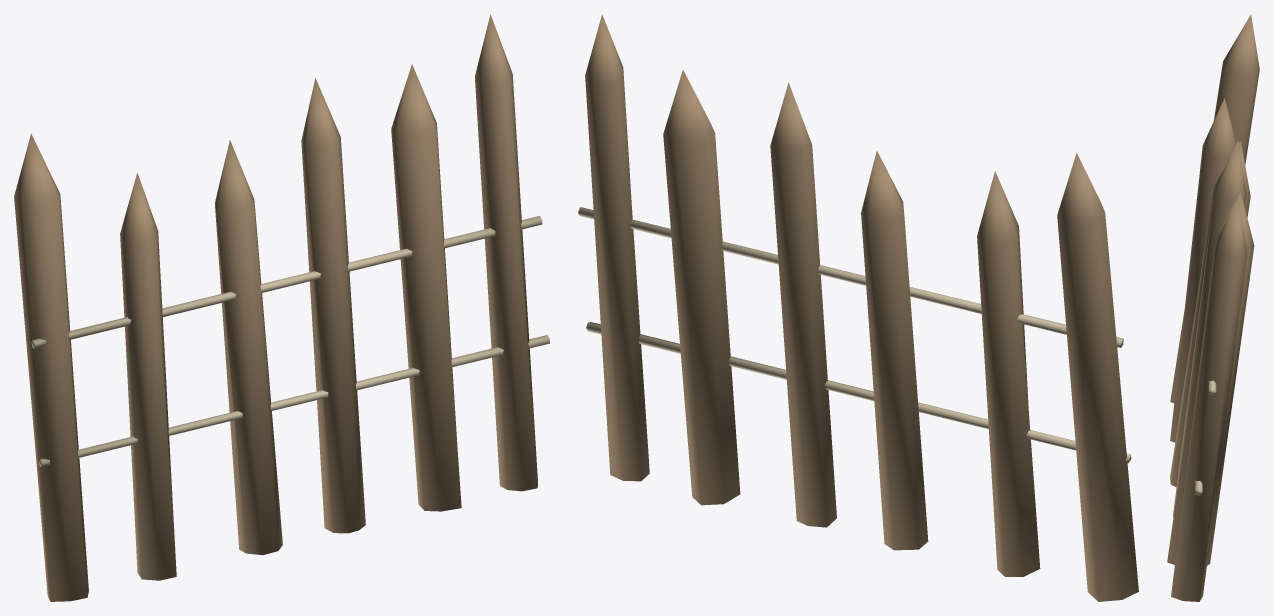
File: camp_stakes.glb
3 views of the same model, side by side, from view 1: azimuth 30°, elevation 25°; view 2: azimuth 150°, elevation 25°; view 3: azimuth 270°, elevation 25° (orthographic). The views are drawn at different scales.
Visible parts, largest first — view 1: stake, stake.004, stake.003, stake.005, stake.002, stake.001, rope.001, rope; view 2: stake, stake.004, stake.005, stake.003, stake.002, stake.001, rope.001, rope; view 3: stake.005, stake.001, stake.004, stake, stake.003, stake.002.
Boxes of the visible parts, <box> form: stake: <box>14,133,88,601</box>; stake.004: <box>391,64,461,511</box>; stake.003: <box>301,78,365,533</box>; stake.005: <box>475,14,537,491</box>; stake.002: <box>215,140,282,555</box>; stake.001: <box>120,172,176,580</box>; rope.001: <box>31,216,542,348</box>; rope: <box>39,335,549,466</box>; stake: <box>1057,153,1138,601</box>; stake.004: <box>663,70,740,505</box>; stake.005: <box>585,14,649,481</box>; stake.003: <box>770,82,836,527</box>; stake.002: <box>861,150,928,550</box>; stake.001: <box>977,171,1040,576</box>; rope.001: <box>578,207,1123,347</box>; rope: <box>586,322,1131,463</box>; stake.005: <box>1171,197,1247,601</box>; stake.001: <box>1170,98,1235,442</box>; stake.004: <box>1167,192,1254,565</box>; stake: <box>1170,14,1259,403</box>; stake.003: <box>1173,140,1246,517</box>; stake.002: <box>1170,141,1250,487</box>.
Size of the model in its own units: 2.8 by 2.39 by 0.5019.
